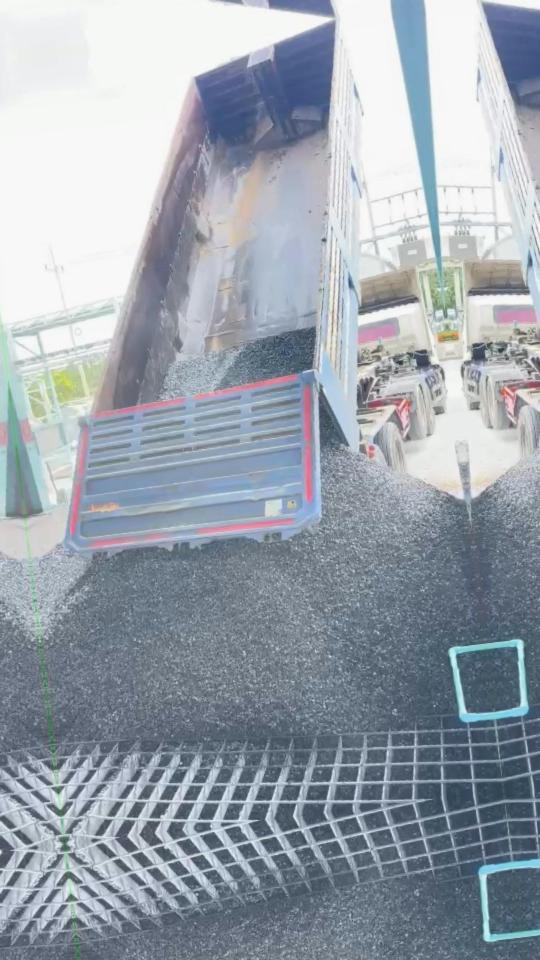gravel: (44, 410, 485, 739), (158, 328, 314, 398), (32, 544, 87, 635), (458, 650, 494, 712)
